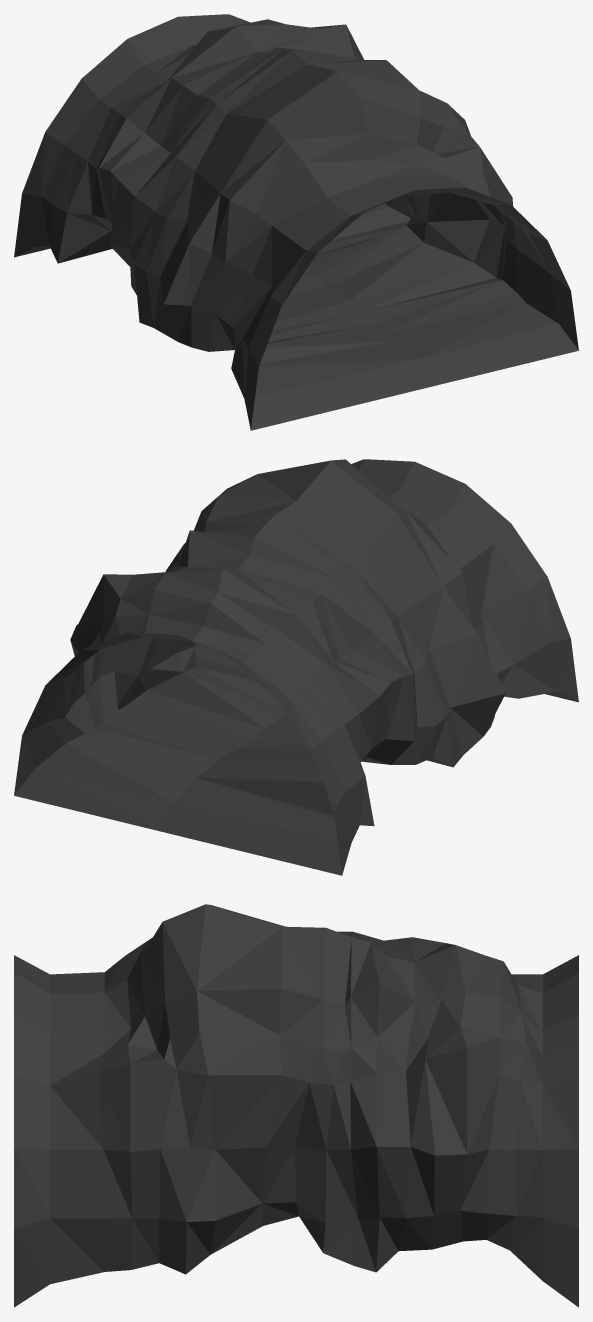
The model's file is Cave_1_LOD_1.fbx.
The picture shows the model from 3 angles, top to bottom: view 1: azimuth 30°, elevation 25°; view 2: azimuth 150°, elevation 25°; view 3: azimuth 270°, elevation 25°; orthographic projection. The views are drawn at different scales.
Parts seen in each view (by area): view 1: pCylinder2; view 2: pCylinder2; view 3: pCylinder2.
Boxes of the visible parts, bbox=[...] form: pCylinder2: bbox=[14, 14, 578, 430]; pCylinder2: bbox=[14, 459, 578, 875]; pCylinder2: bbox=[14, 904, 578, 1307].
Bounding box in the file's own units: 8.43 × 6.25 × 10.32.
